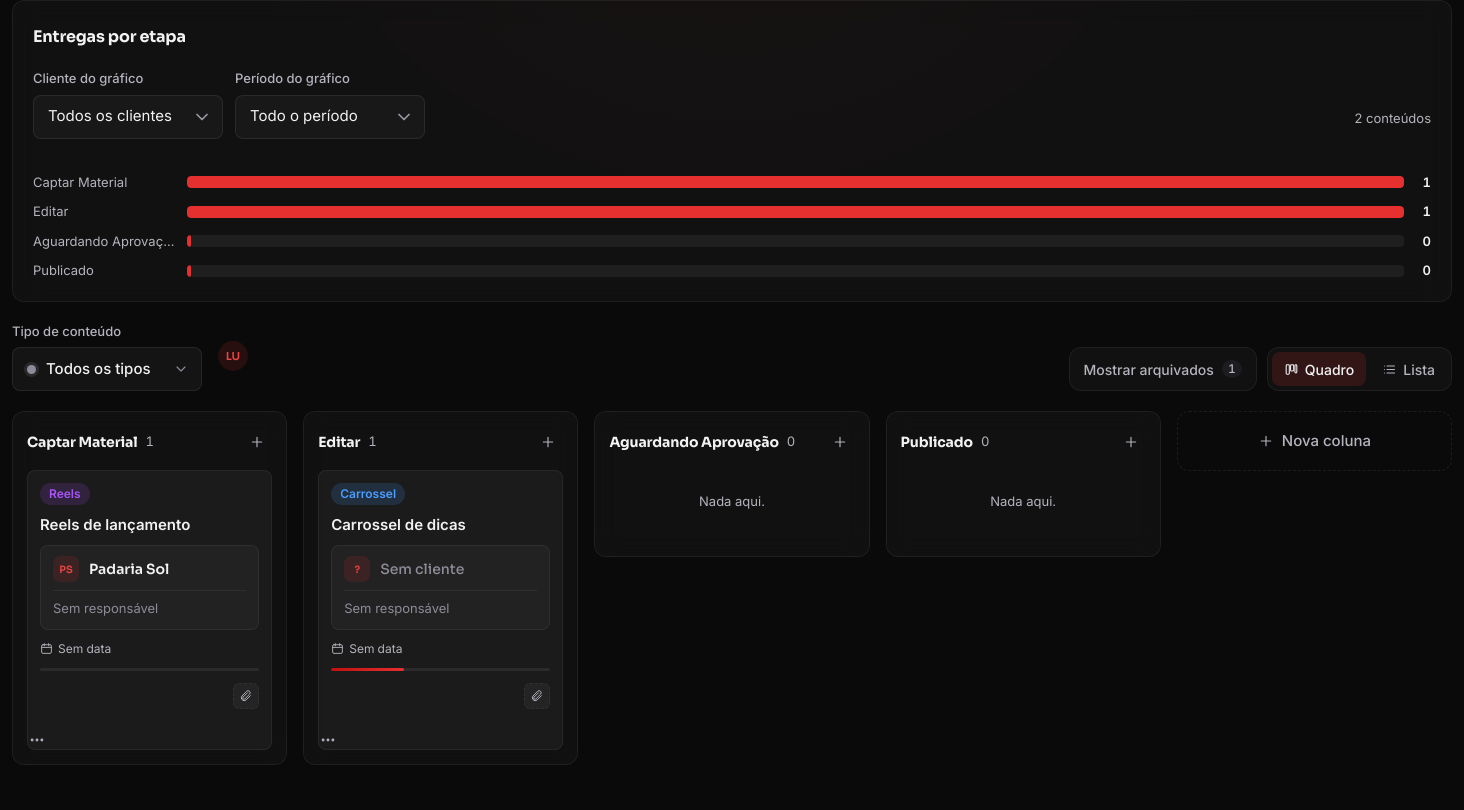
Test case: ConteudoPage › filtra por tipo de conteúdo e por responsável
The image size is (1464, 810).
Expected: the text "Reels de lançamento" is shown, top-left (40, 515), bottom-right (190, 534)
Click the dropdown labelled "Todos os tipos". click: (107, 369)
box: top-left (12, 347), bottom-right (202, 391)
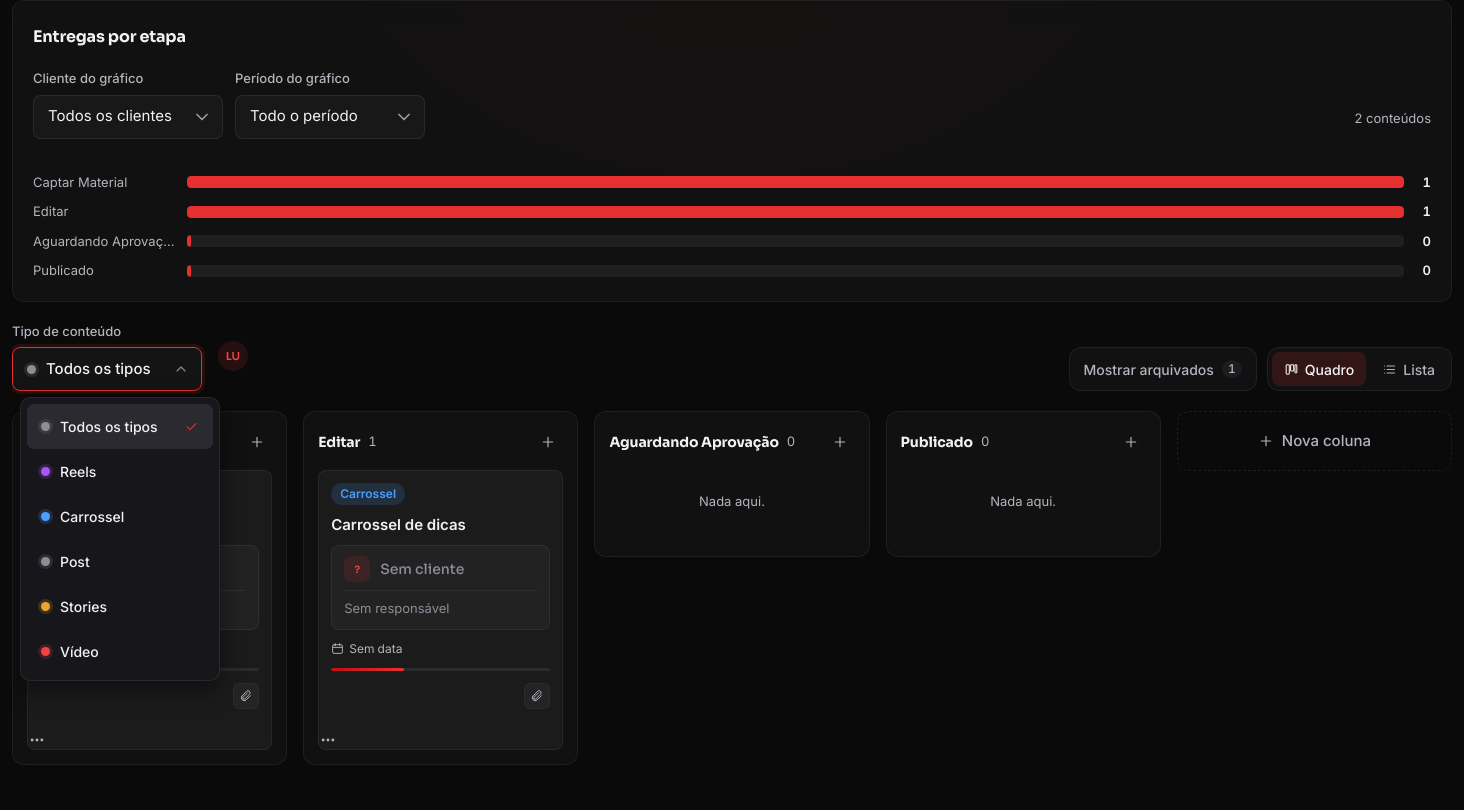
Click the option "Carrossel". click: (83, 516)
box: top-left (41, 508), bottom-right (124, 525)
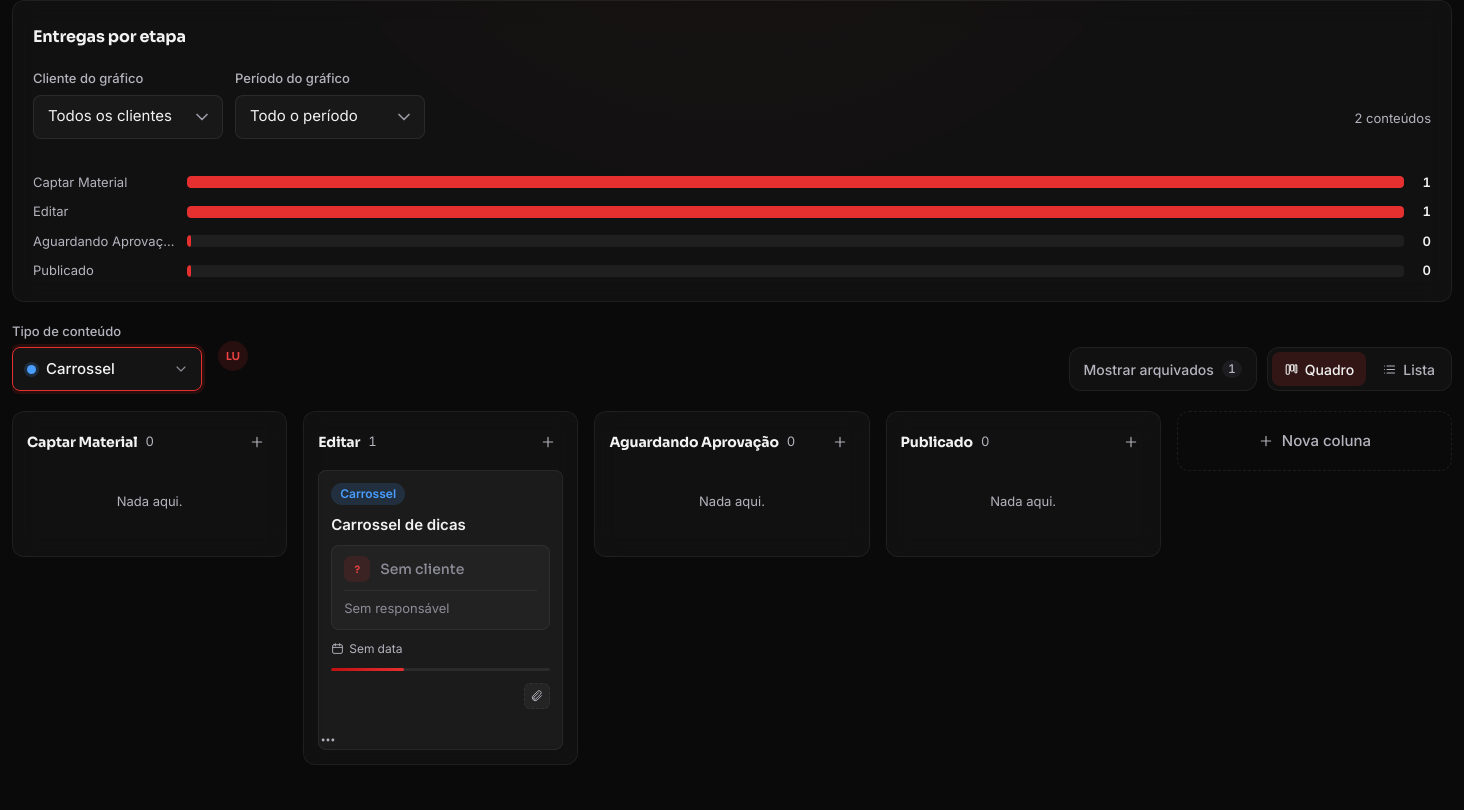
Expected: the text "Carrossel de dicas" is shown, top-left (331, 515), bottom-right (466, 534)
Result: the button "Reels de lançamento" is gone
Click the button with aria-label "Luan Uliana, Liderança". click: (233, 356)
box: top-left (214, 337), bottom-right (252, 375)
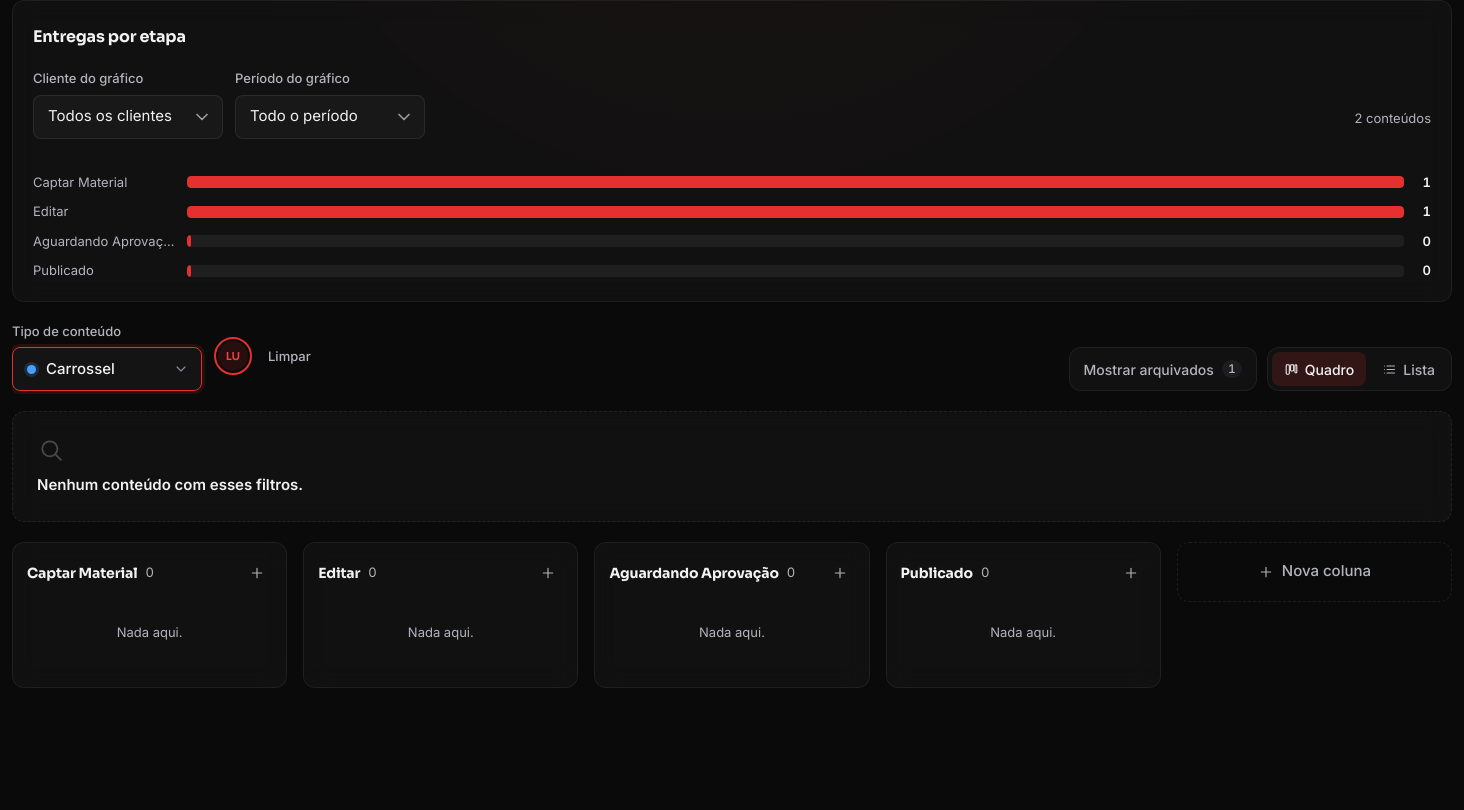
Result: the text "Nenhum conteúdo com esses filtros." is shown at top-left (37, 474), bottom-right (303, 496)
